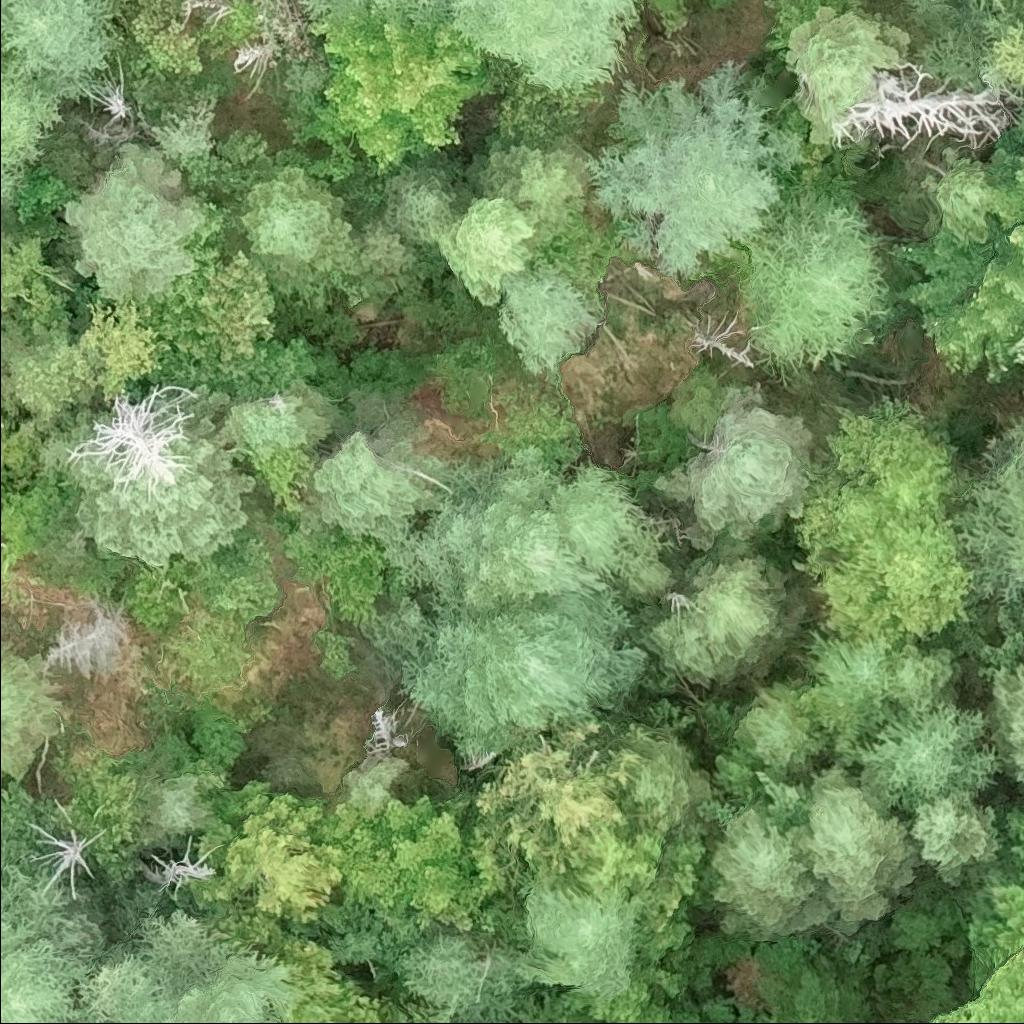crown: (582, 54, 815, 281), (791, 395, 977, 639), (399, 589, 655, 761), (41, 390, 261, 571), (380, 445, 617, 610), (740, 181, 898, 380), (468, 714, 655, 878), (654, 382, 817, 556), (318, 9, 487, 174), (628, 533, 809, 686), (66, 141, 209, 304), (188, 780, 346, 925), (791, 767, 919, 927), (136, 244, 275, 388), (313, 792, 464, 918), (440, 0, 635, 96), (849, 697, 1007, 815), (516, 872, 646, 1015), (780, 9, 913, 146), (708, 809, 836, 949), (309, 427, 454, 544), (239, 166, 360, 293), (0, 860, 93, 1023), (922, 222, 1023, 371), (392, 926, 540, 1023), (946, 418, 1023, 603), (72, 382, 200, 488), (838, 67, 1011, 144), (69, 750, 166, 880), (250, 932, 386, 1023), (138, 948, 298, 1023), (0, 0, 119, 99), (551, 461, 646, 577), (437, 195, 536, 306), (477, 147, 592, 241), (121, 908, 242, 997), (0, 636, 66, 787), (726, 678, 828, 775), (907, 789, 1002, 891), (227, 389, 339, 470), (622, 739, 715, 836), (0, 48, 59, 200), (82, 299, 164, 406), (44, 591, 137, 680), (16, 821, 112, 903), (806, 626, 896, 709), (932, 944, 1023, 1023), (75, 952, 164, 1023), (142, 772, 226, 844), (385, 162, 457, 246), (135, 832, 220, 903), (127, 0, 202, 79), (977, 662, 1023, 787), (888, 640, 968, 711), (297, 0, 448, 36), (150, 94, 214, 162), (341, 754, 409, 811), (84, 54, 131, 120), (360, 705, 411, 755), (1018, 0, 1023, 93), (75, 1016, 102, 1023), (918, 1022, 920, 1023)
